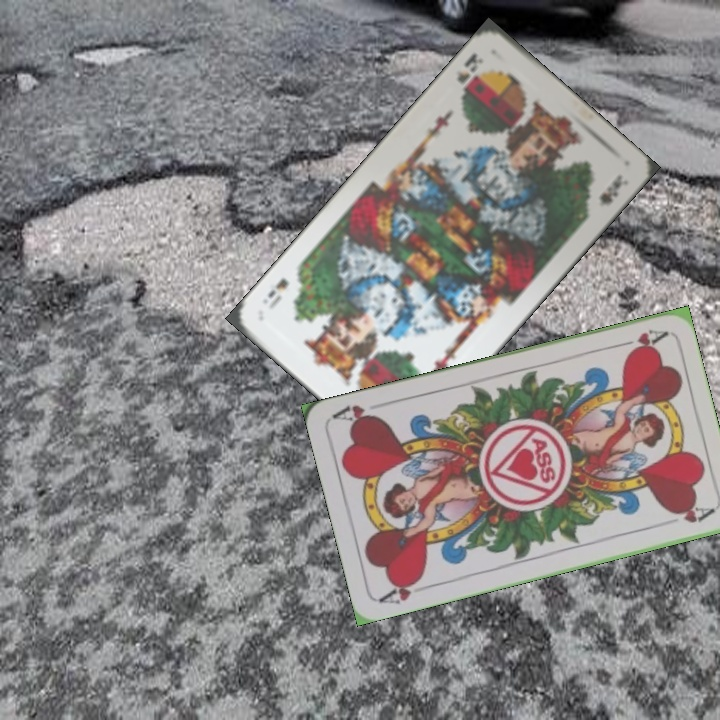HA: (376, 572, 434, 607), (610, 325, 669, 356)
SK: (452, 48, 486, 86)
